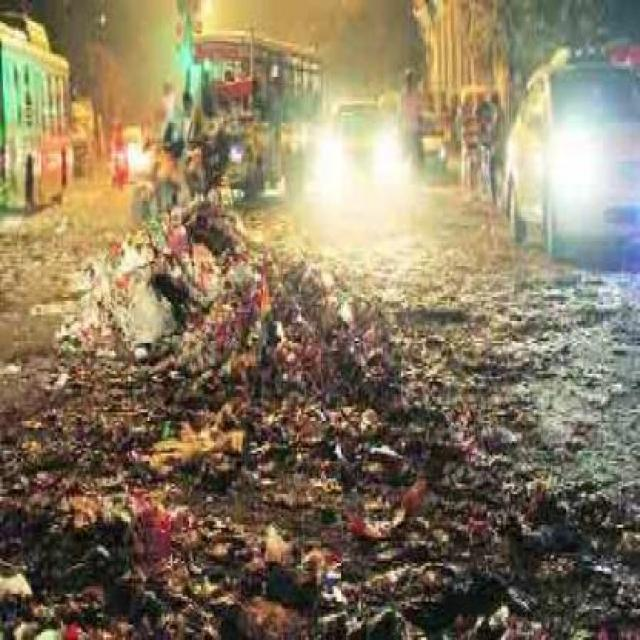garbage: (119, 232, 354, 403)
